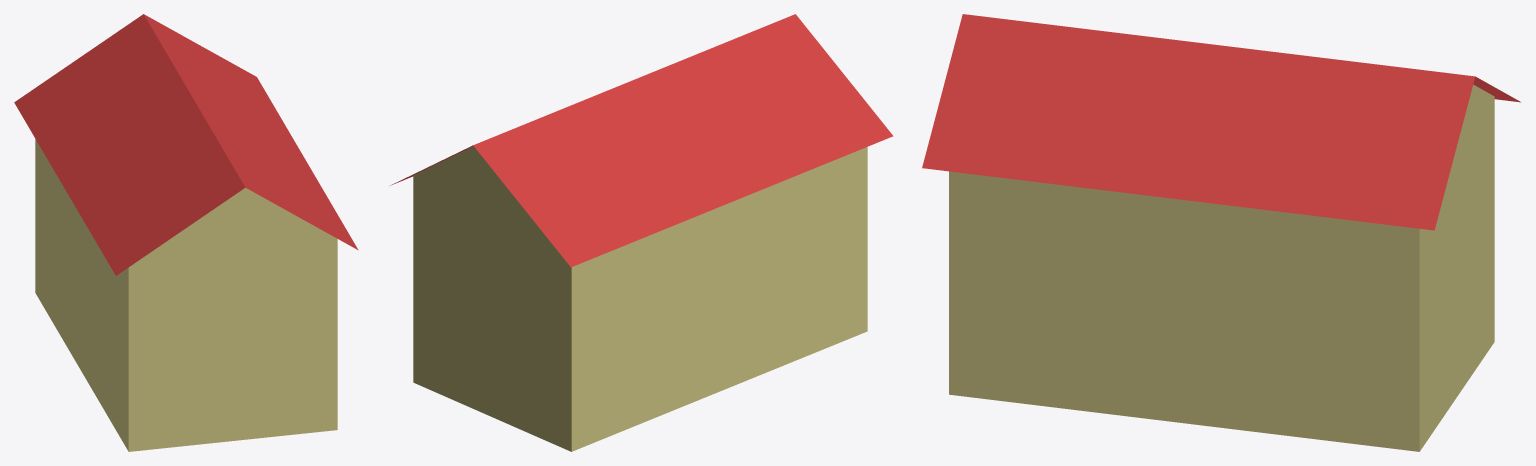
3 views of the same model, side by side, from view 1: azimuth 30°, elevation 25°; view 2: azimuth 150°, elevation 25°; view 3: azimuth 270°, elevation 25° (orthographic). The views are drawn at different scales.
Size of the model in its own units: 10.28 by 13.68 by 8.23.
